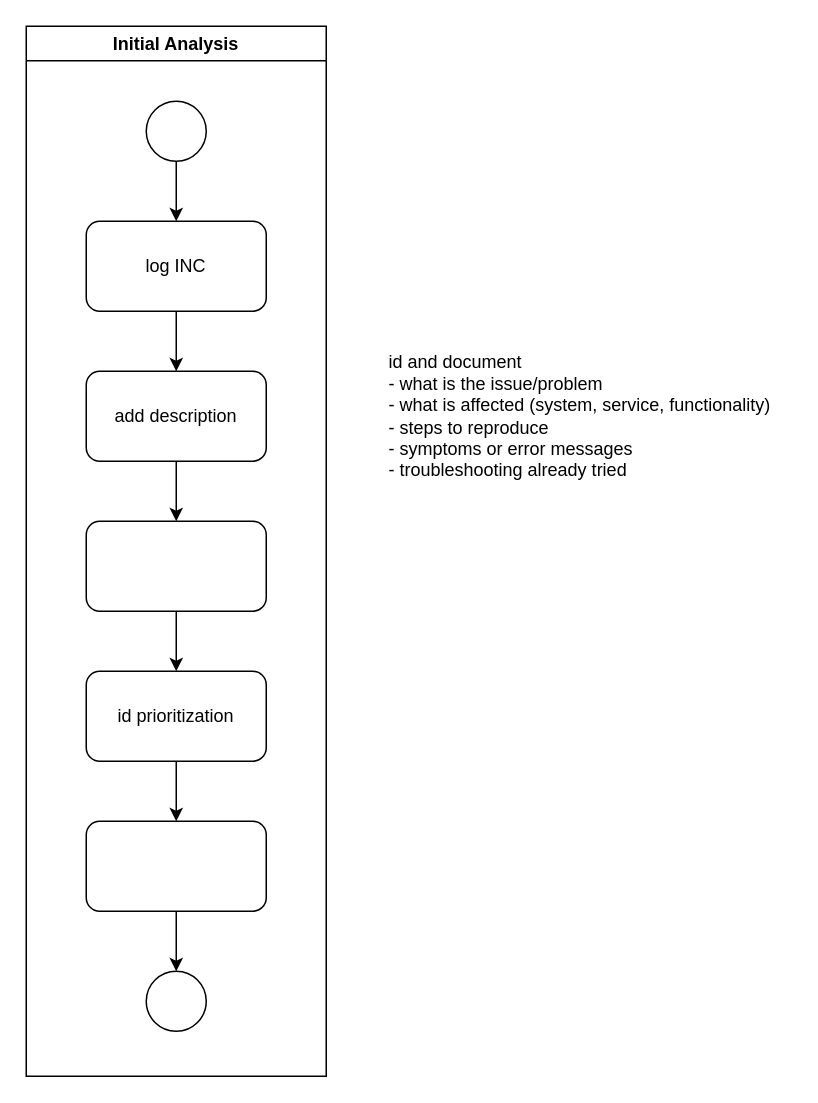
Some shapes in this 818 by 1103 pixel diagram are drawn without their labels. The centre of each missing label's shape, as x and y in pixels:
"add correct CI" goes at point 175,865.
"id classification" goes at point 175,565.
